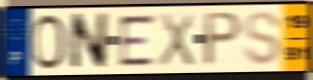E: (117, 13, 157, 69)
N: (69, 10, 110, 72)
O: (31, 12, 68, 72)
P: (201, 10, 245, 69)
S: (242, 9, 283, 67)
X: (157, 11, 196, 69)
